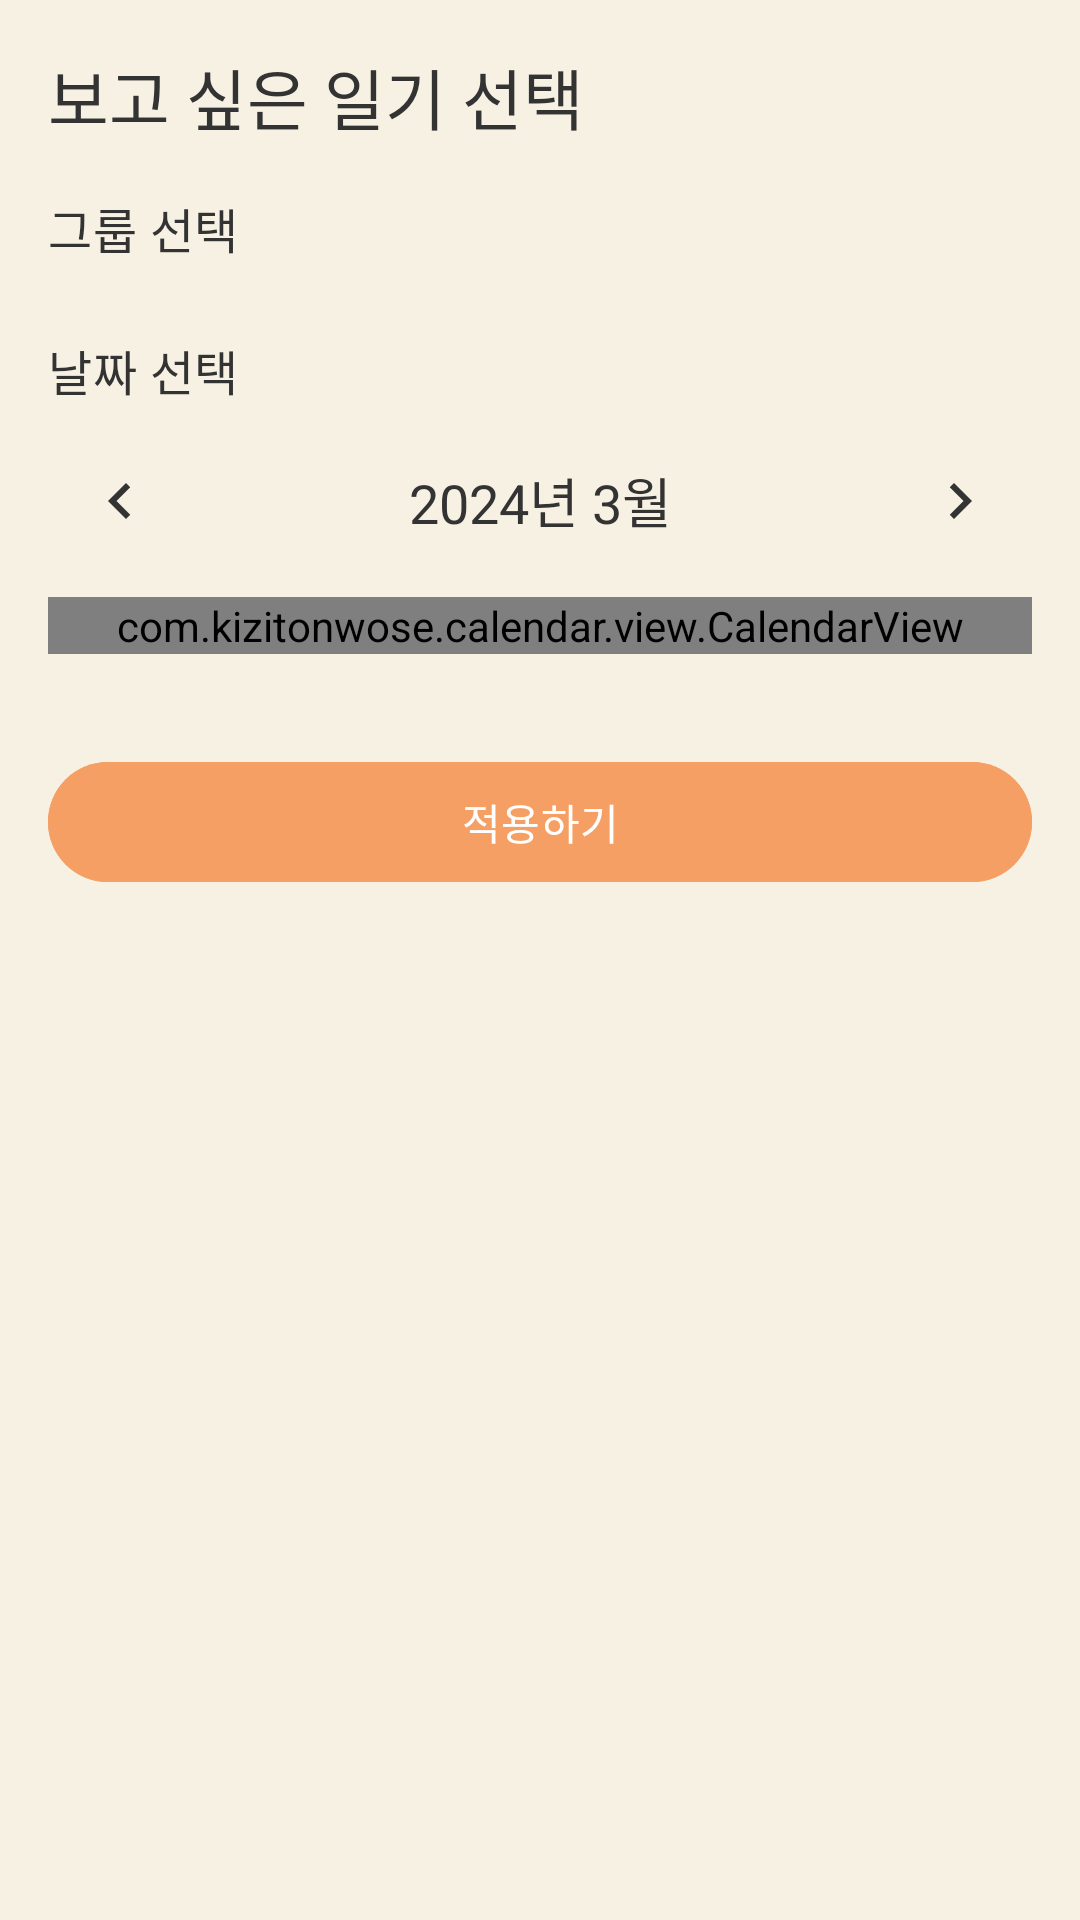

Locate icon controls on the screen. Image size 1080px x 1920px, boxes as [x1=x1, y1=y1, x2=x2, y2=y2].
다음 달: [x1=950, y1=483, x2=972, y2=519]
이전 달: [x1=108, y1=483, x2=130, y2=519]
